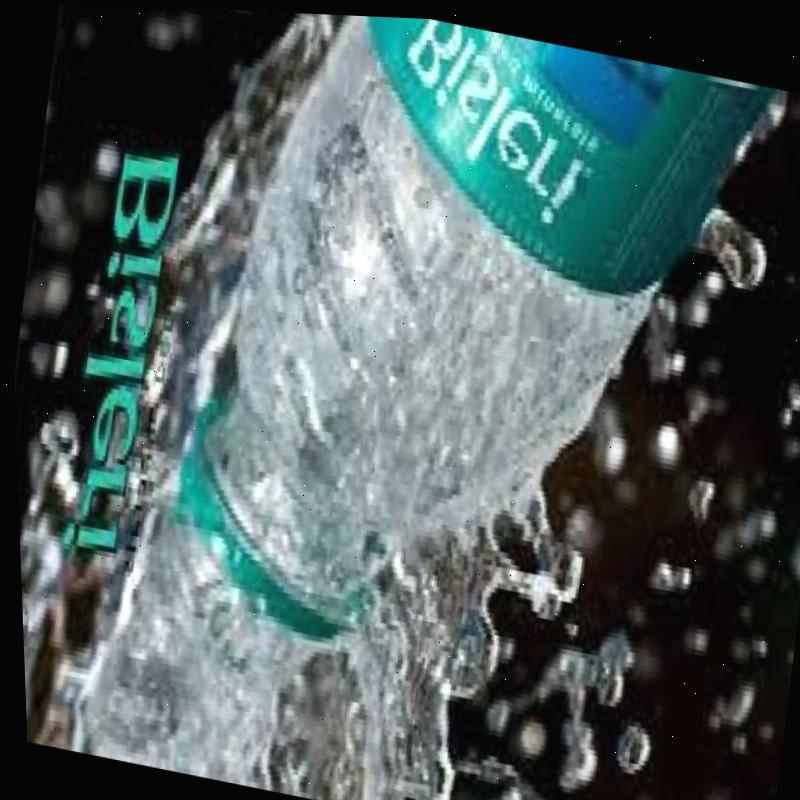botella: (135, 5, 798, 716)
